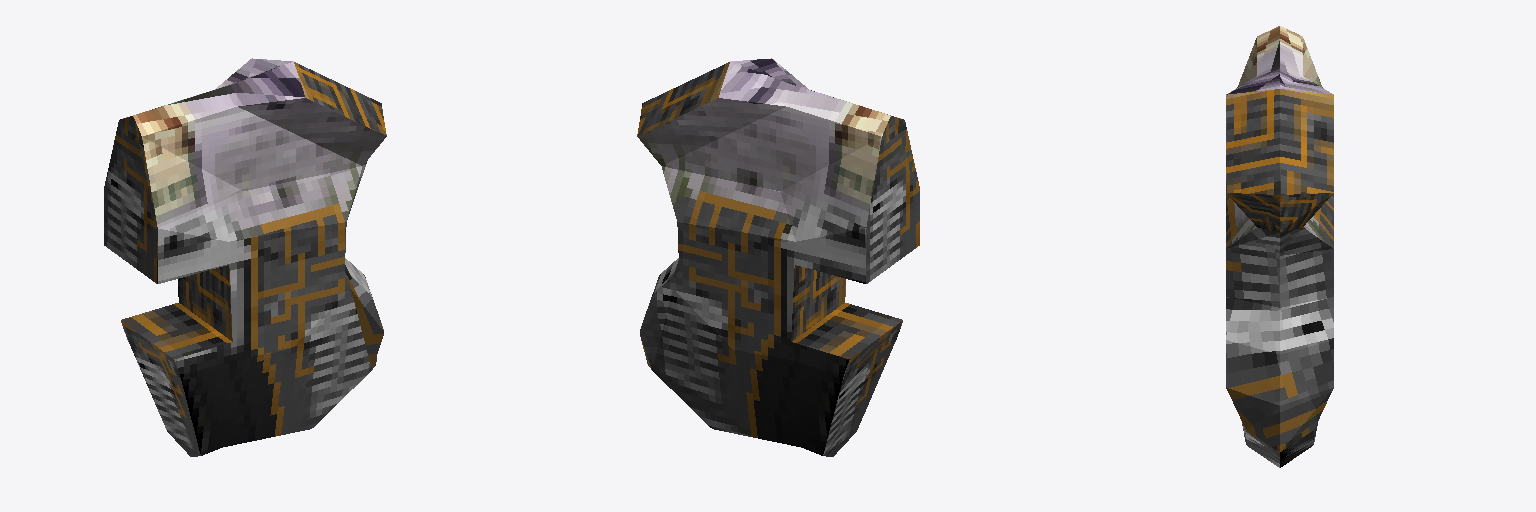
The picture shows the model from 3 angles: view 1: azimuth 30°, elevation 25°; view 2: azimuth 150°, elevation 25°; view 3: azimuth 270°, elevation 25°; orthographic projection.
Parts seen in each view (by area): view 1: gun_part_1; view 2: gun_part_1; view 3: gun_part_1.
Boxes of the visible parts, <box> form: gun_part_1: <box>104,58,386,456</box>; gun_part_1: <box>637,58,919,456</box>; gun_part_1: <box>1226,26,1333,467</box>.
Bounding box in the file's own units: 0.2314 × 0.3267 × 0.0861.
Materials: 1 (1 with a texture image).